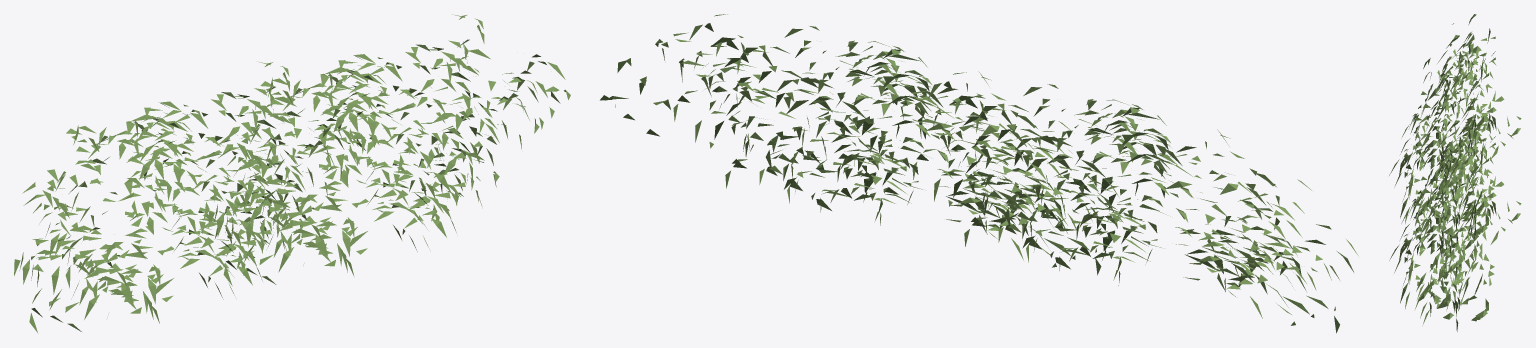
The model's file is 08_openskp_material_5.003.obj.
3 views of the same model, side by side, from view 1: azimuth 30°, elevation 25°; view 2: azimuth 150°, elevation 25°; view 3: azimuth 270°, elevation 25° (orthographic). The views are drawn at different scales.
Visible parts, largest first — view 1: 08_openskp_material_5.003; view 2: 08_openskp_material_5.003; view 3: 08_openskp_material_5.003.
Part boxes in pixels (left/top/right/bottom): 08_openskp_material_5.003: left=14, top=14, right=570, bottom=332; 08_openskp_material_5.003: left=600, top=14, right=1358, bottom=333; 08_openskp_material_5.003: left=1389, top=14, right=1521, bottom=331.
Bounding box in the file's own units: 18.83 × 5.8 × 4.14.
